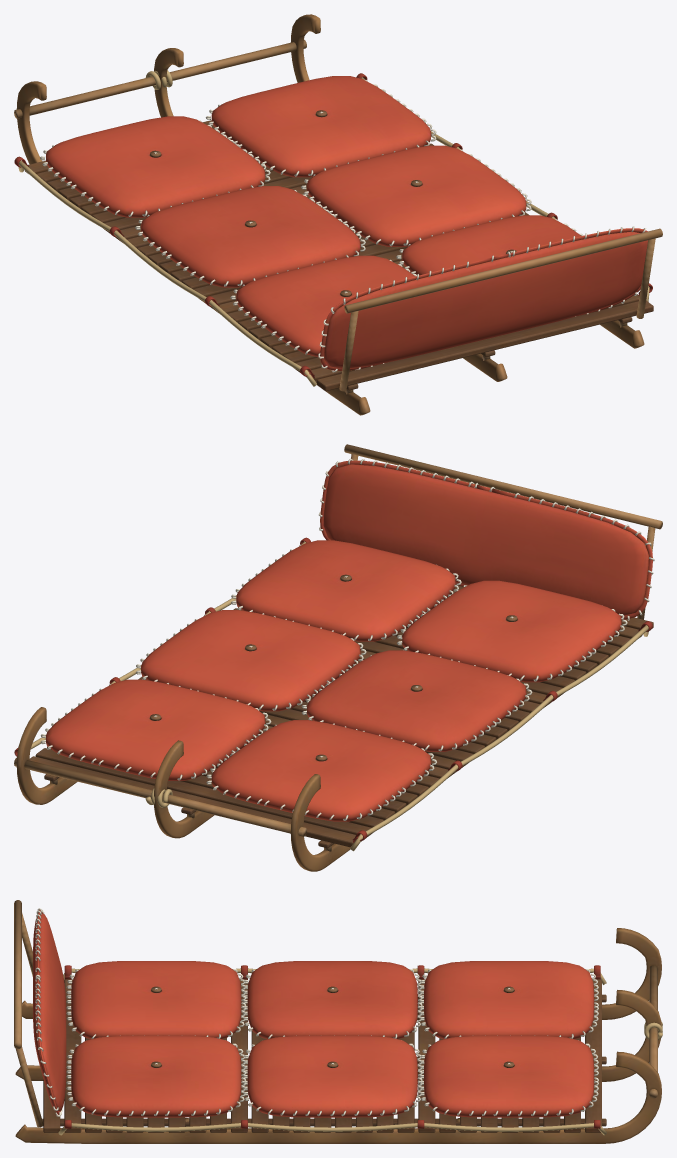
The model's file is sled_large.glb.
3 renders of one model, top to bottom at view 1: azimuth 30°, elevation 25°; view 2: azimuth 150°, elevation 25°; view 3: azimuth 270°, elevation 25°, orthographic. The views are drawn at different scales.
Parts seen in each view (by area): view 1: cushions.002, board.002, runners.002, back_frame.002, stitches.002, struts.002, hemp.002; view 2: cushions.002, board.002, runners.002, stitches.002, back_frame.002, struts.002, hemp.002; view 3: cushions.002, runners.002, board.002, stitches.002, hemp.002, back_frame.002, struts.002, loops.002, buttons.002.
Boxes of the visible parts, x1,y1,x2,y2 form: cushions.002: (46, 76, 647, 370); board.002: (24, 120, 653, 391); runners.002: (16, 14, 644, 415); back_frame.002: (339, 228, 662, 391); stitches.002: (40, 80, 646, 372); struts.002: (14, 39, 627, 394); hemp.002: (18, 70, 649, 386); cushions.002: (46, 460, 652, 821); board.002: (29, 585, 653, 848); runners.002: (16, 707, 543, 871); stitches.002: (40, 458, 654, 820); back_frame.002: (344, 444, 662, 619); struts.002: (14, 757, 331, 851); hemp.002: (30, 542, 648, 851); cushions.002: (33, 910, 594, 1117); runners.002: (15, 928, 661, 1143); board.002: (42, 979, 606, 1132); stitches.002: (35, 908, 598, 1116); hemp.002: (58, 968, 662, 1135); back_frame.002: (14, 900, 43, 1127); struts.002: (185, 965, 657, 1131); loops.002: (64, 965, 600, 1128); buttons.002: (151, 986, 514, 1067).
Bounding box in the file's own units: 2.43 × 0.8136 × 4.21.
9 materials, 7 textured.
